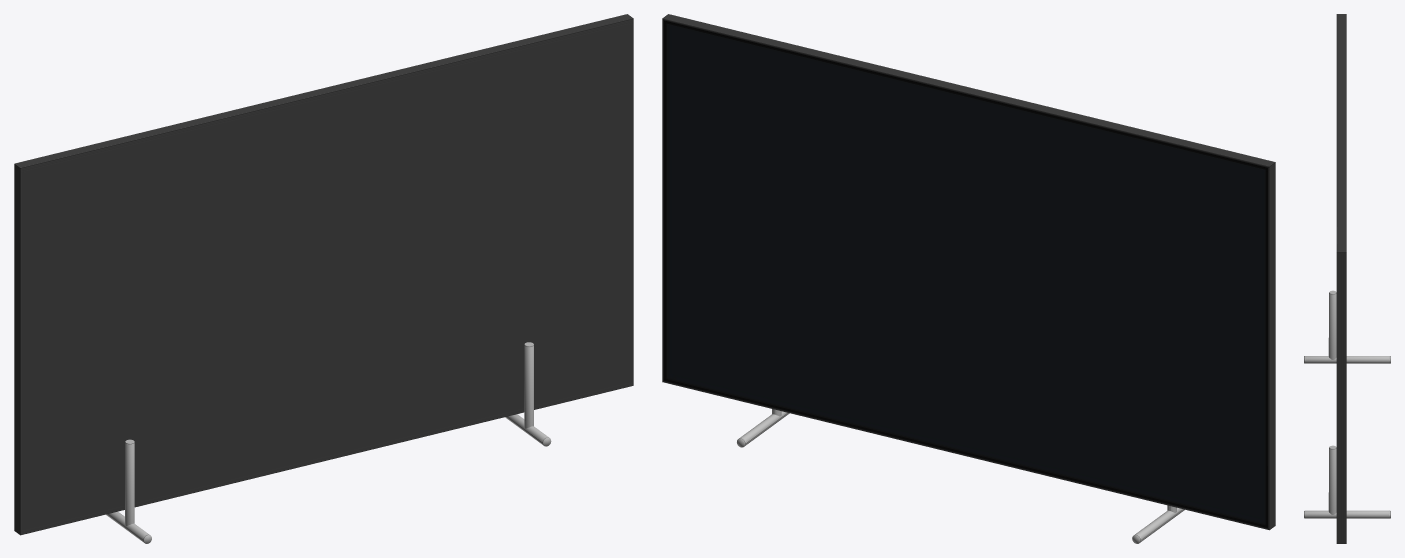
File: television.glb
3 views of the same model, side by side, from view 1: azimuth 30°, elevation 25°; view 2: azimuth 150°, elevation 25°; view 3: azimuth 270°, elevation 25° (orthographic). The views are drawn at different scales.
Parts seen in each view (by area): view 1: tv2018; view 2: tv2018; view 3: tv2018.
Boxes of the visible parts, x1=… form: tv2018: x1=14, y1=14, x2=633, y2=543; tv2018: x1=662, y1=14, x2=1275, y2=543; tv2018: x1=1304, y1=14, x2=1390, y2=543.
Size of the model in its own units: 1.4 by 0.8439 by 0.2161.
Materials: 1 (1 with a texture image).
